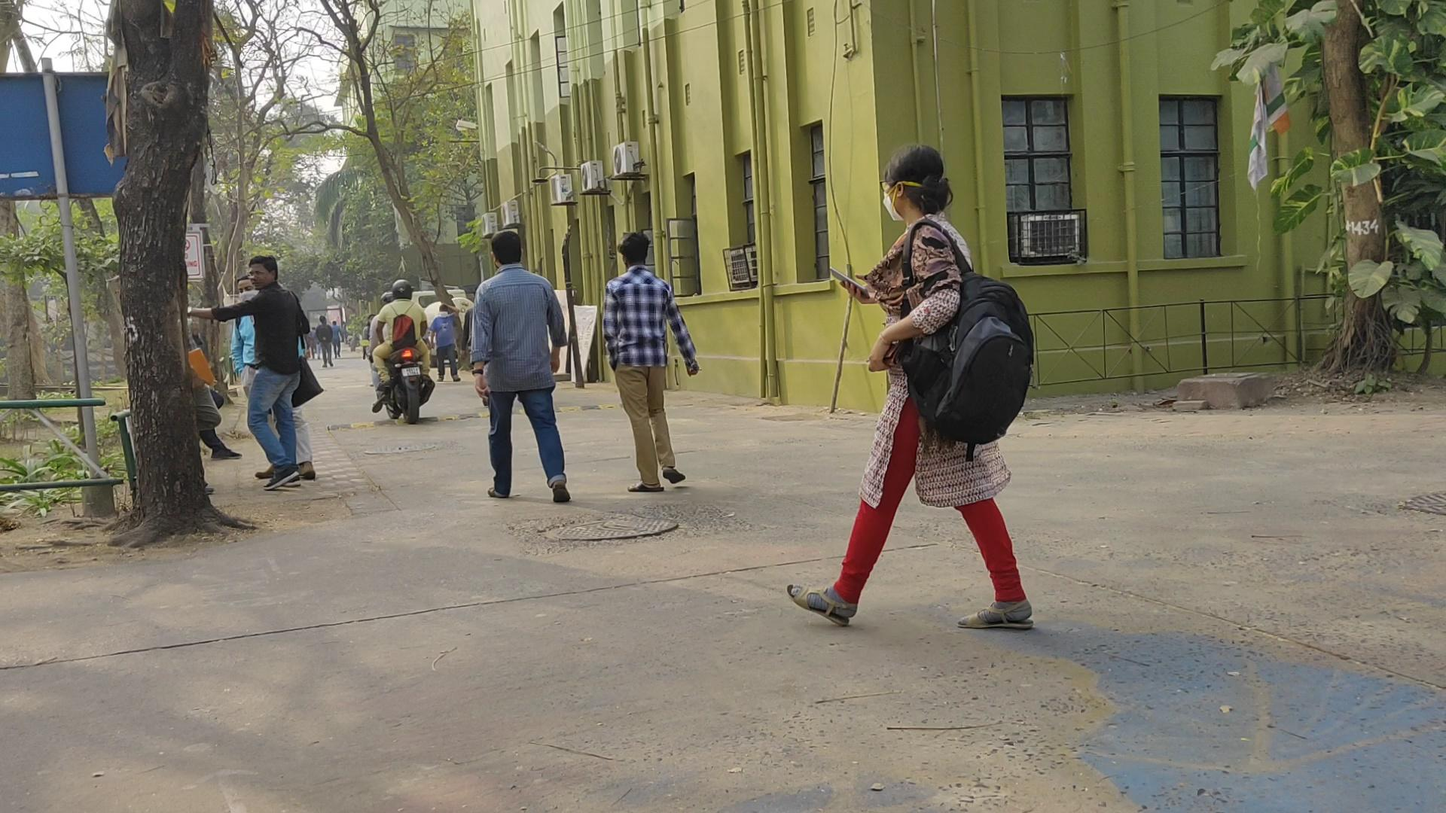bike: (365, 279, 435, 425)
